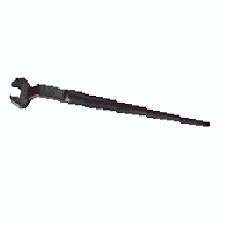wrench: (12, 73, 221, 149)
